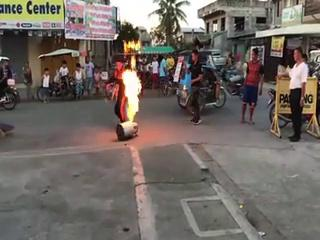Fire: (121, 41, 145, 122)
